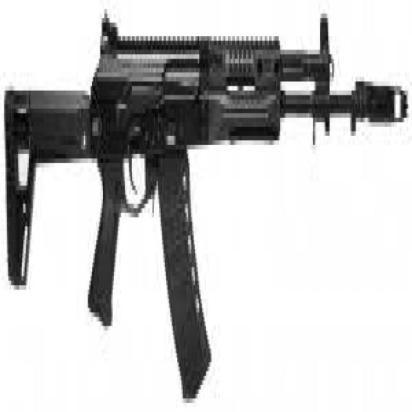Gun: (2, 3, 408, 412)
